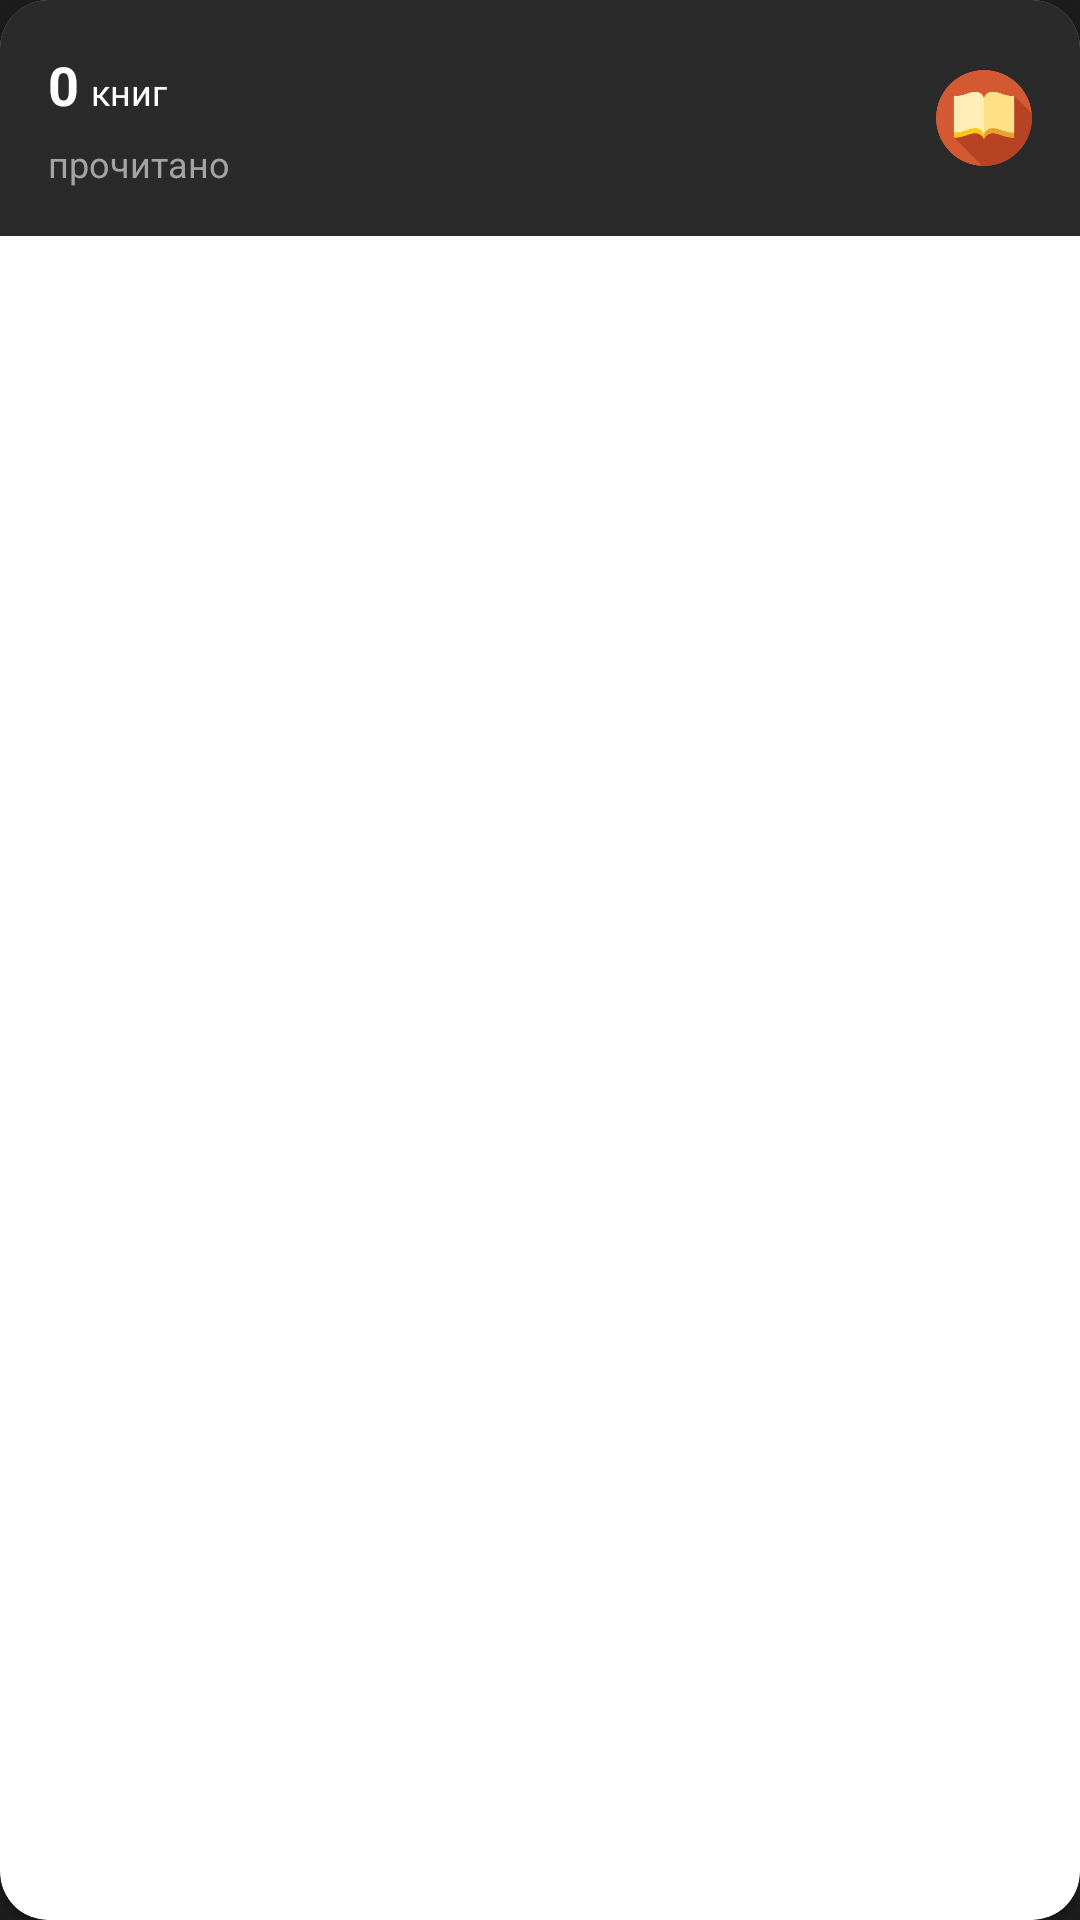

Icon bounding boxes for this 1080 × 1920 phone screenshot, format (x1, y1, x2, y2):
book: (936, 70, 1032, 166)
